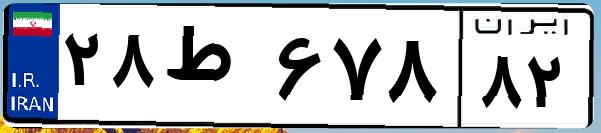2: (57, 26, 110, 100), (525, 38, 570, 115)
6: (270, 28, 330, 110)
7: (330, 28, 385, 110)
8: (385, 28, 445, 110), (475, 38, 525, 113), (110, 28, 158, 98)
ط: (158, 20, 270, 120)
